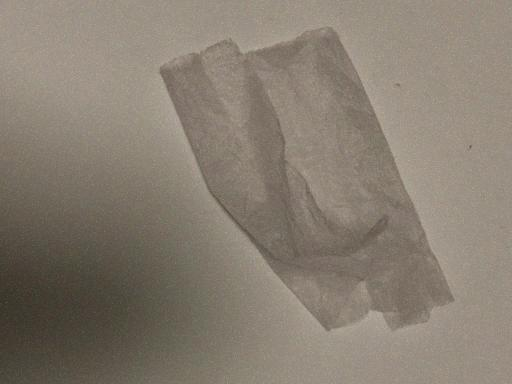trash: (161, 26, 456, 334)
